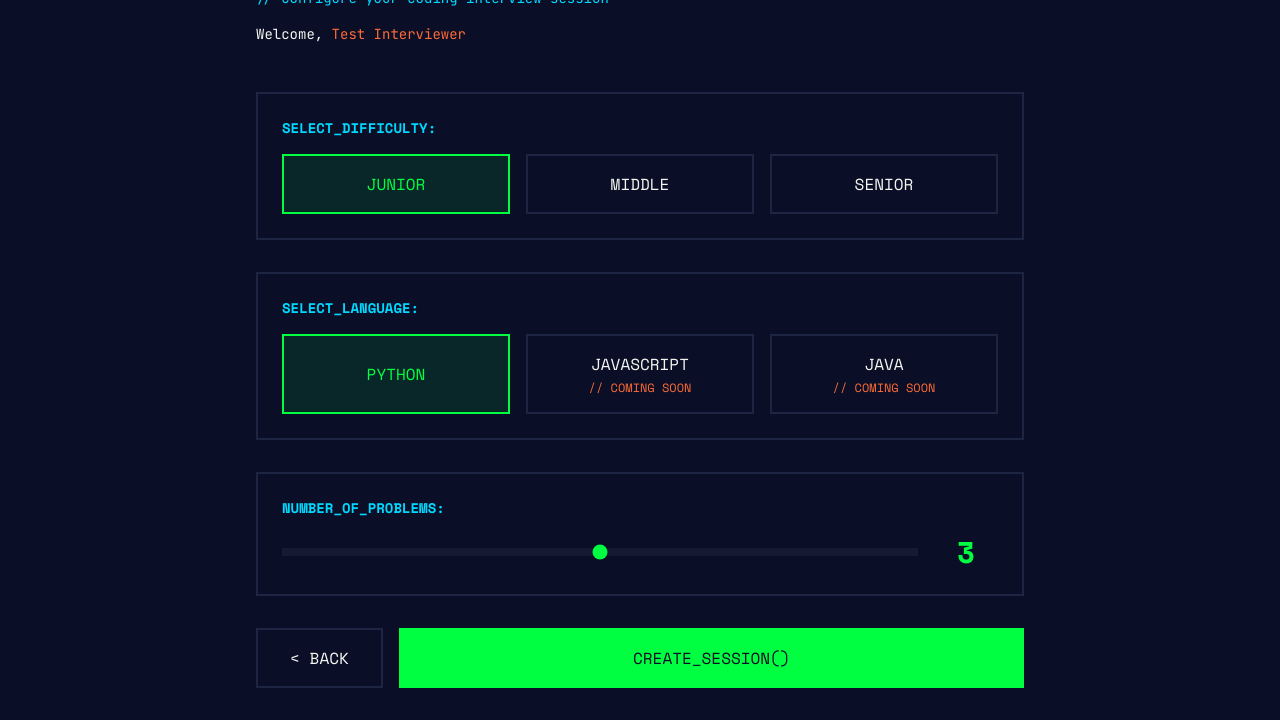
Test: SessionSetup › Session Link Modal › should show modal after creating session
The width and height of the screenshot is (1280, 720).
(page scrolled)
Click the button "CREATE_SESSION()": (711, 658) [399,628,1024,688]
Wait 1000 ms
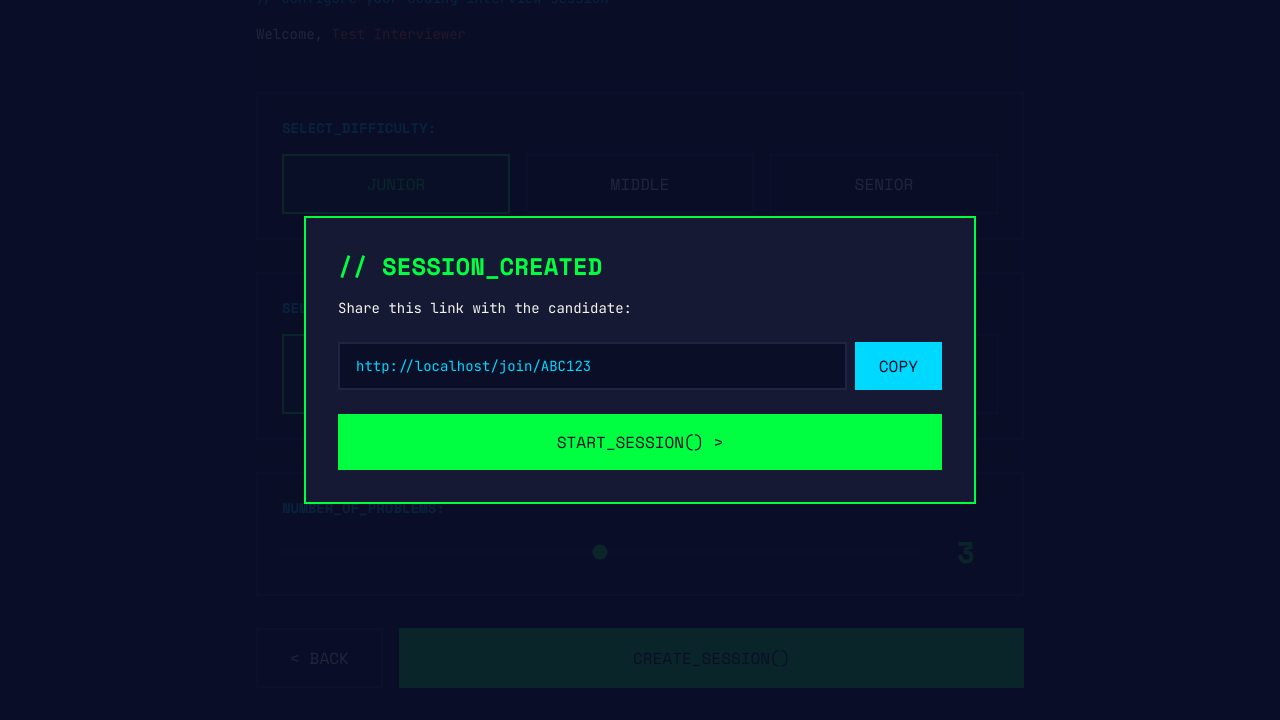
Expected: the element with class "inset-0" is shown
